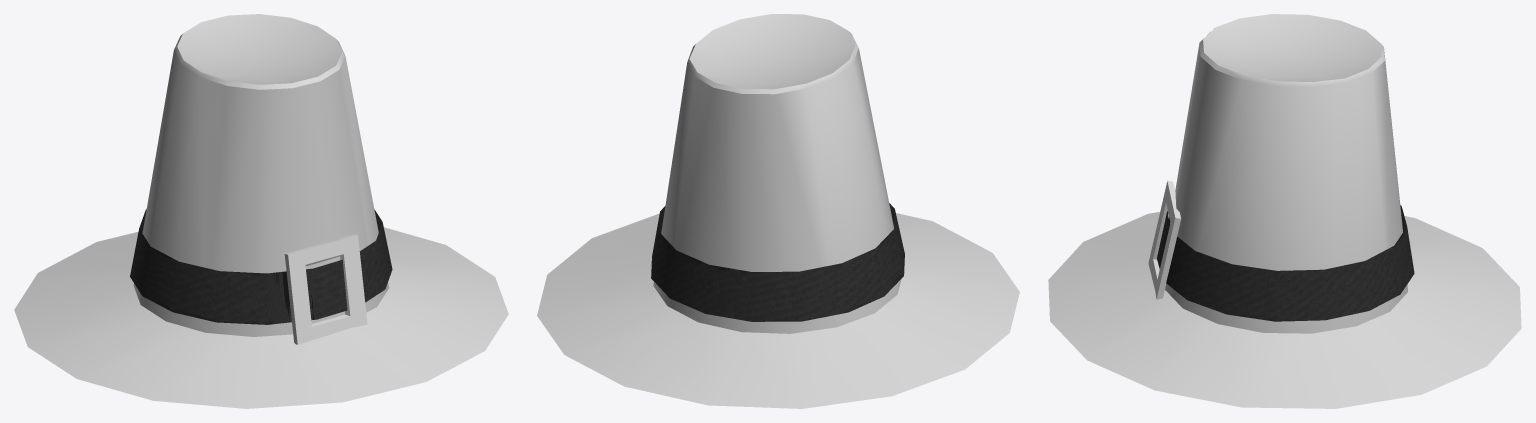
Rendered from PiligrimsHat.fbx.
3 renders of one model, left to right at view 1: azimuth 30°, elevation 25°; view 2: azimuth 150°, elevation 25°; view 3: azimuth 270°, elevation 25°, orthographic.
Parts seen in each view (by area): view 1: PiligrimsHat; view 2: PiligrimsHat; view 3: PiligrimsHat.
Boxes of the visible parts, <box> form: PiligrimsHat: <box>14,14,508,408</box>; PiligrimsHat: <box>537,14,1019,408</box>; PiligrimsHat: <box>1048,14,1521,408</box>.
Bounding box in the file's own units: 465 × 280 × 453.
